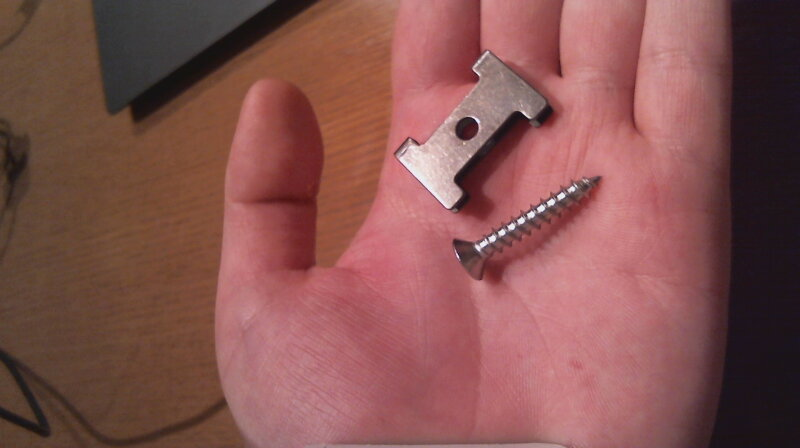O002: (389, 48, 552, 215)
S001: (448, 167, 605, 282)
